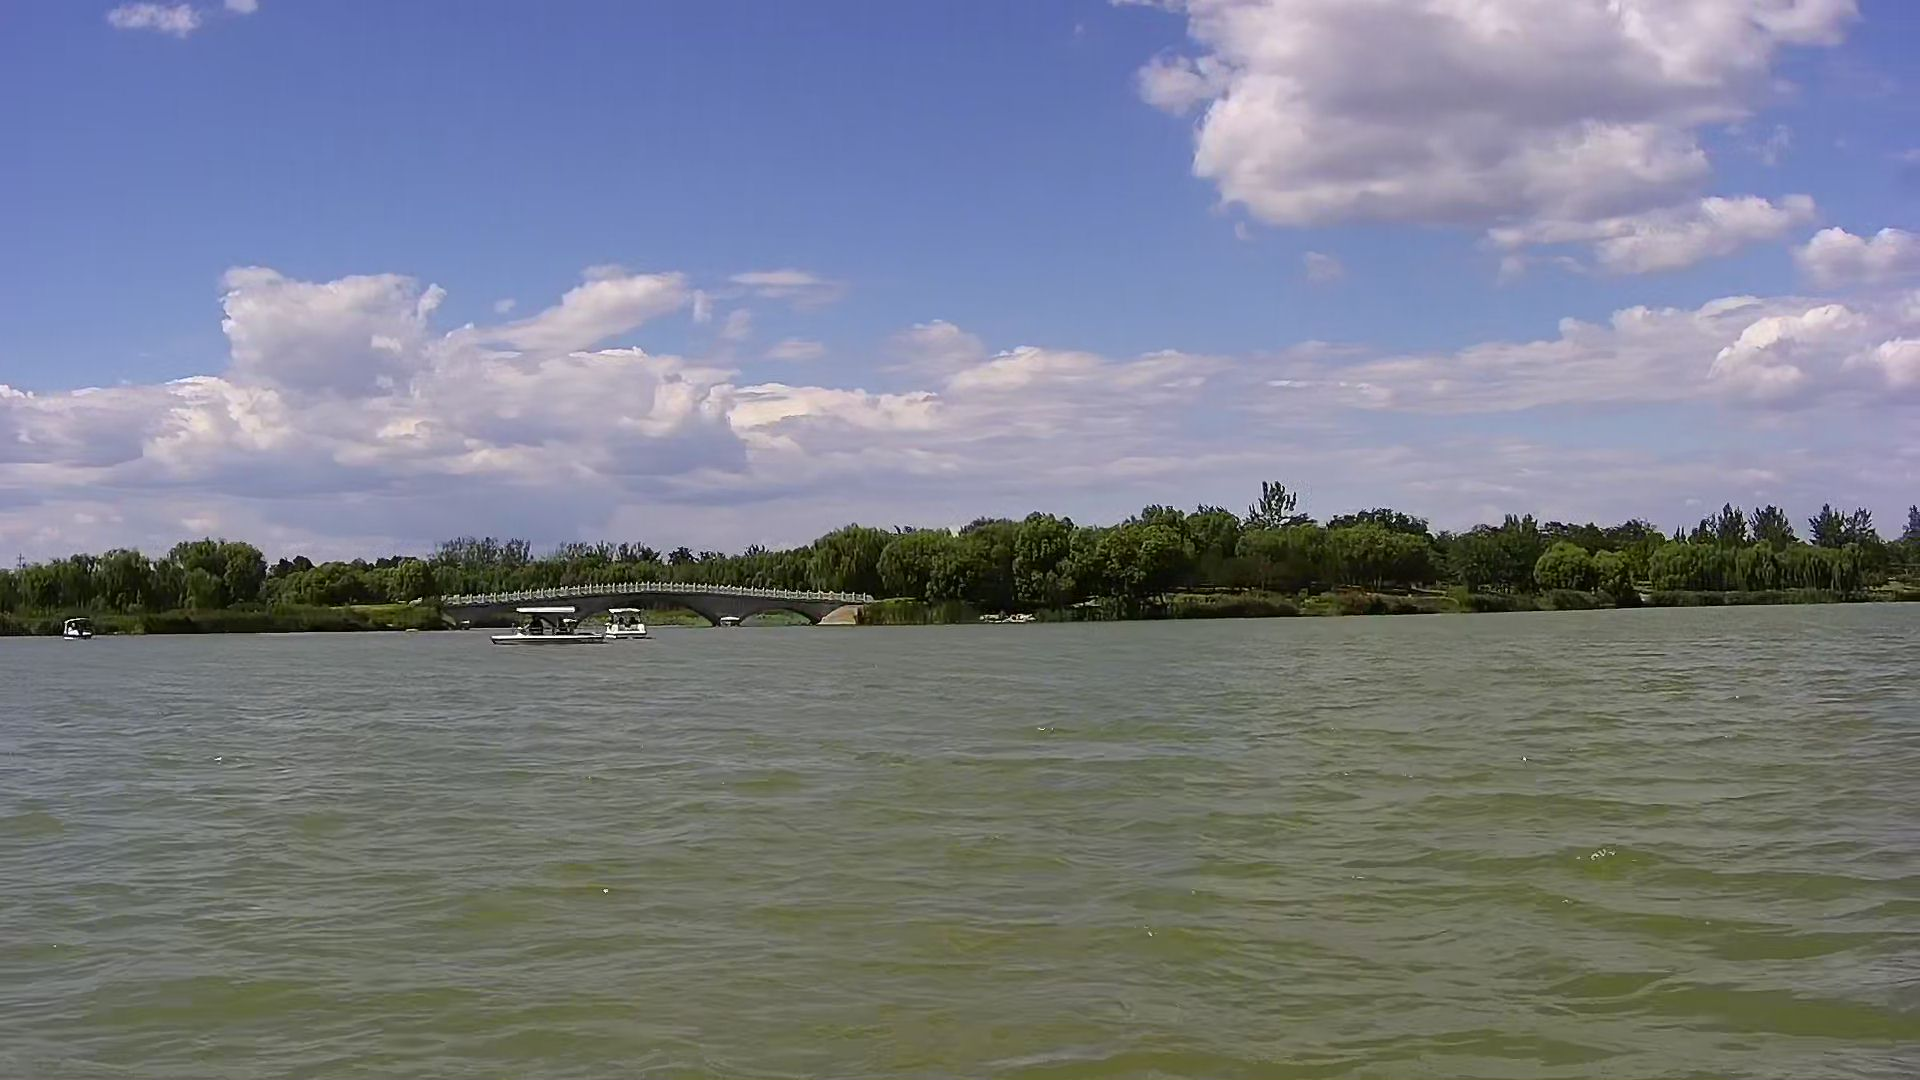boat: (485, 596, 599, 650), (599, 603, 655, 647), (57, 615, 103, 646)
bridge: (444, 574, 873, 622)
